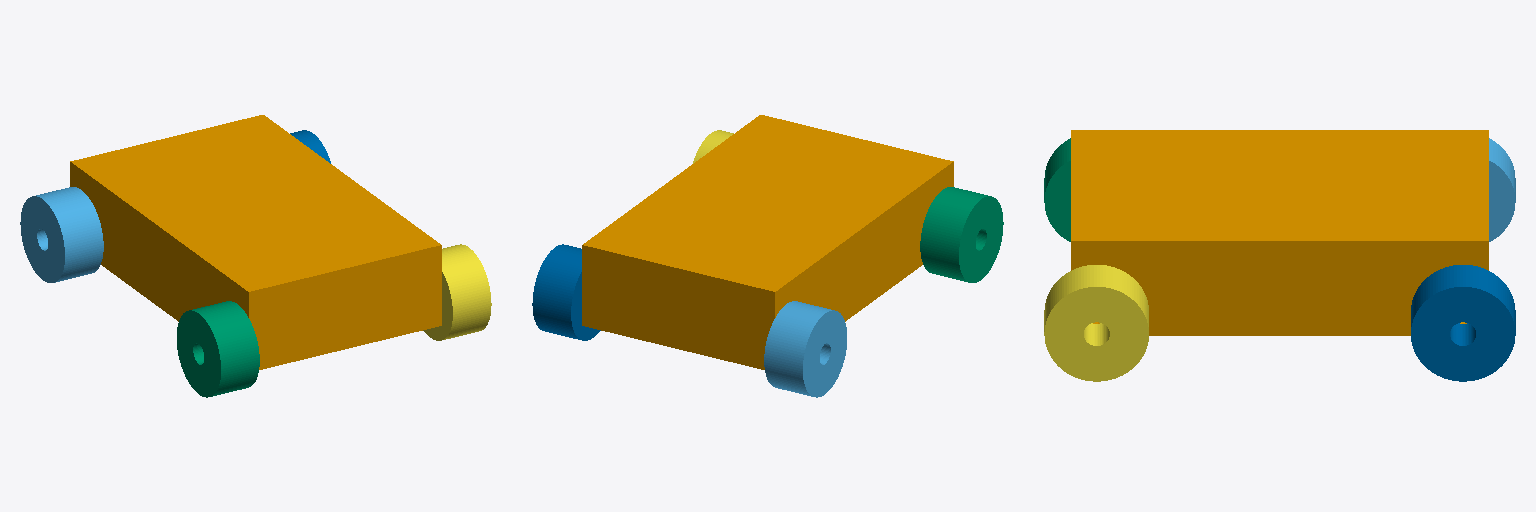
robot.urdf — modelo_carrinho:
<?xml version='1.0' encoding='utf-8'?>
<robot name="modelo_carrinho">
    <link name="base_link">
        <inertial>
            <origin xyz="0.025 0.04 0.010125806212033366" rpy="0.0 0.0 0.0" />
            <mass value="0.6125865610433244" />
            <inertia ixx="0.0003365420054452638" iyy="0.00014813641854496197" izz="0.0004436499873350197" ixy="1.0842021724855044e-19" iyz="0.0" ixz="2.710505431213761e-20" />
        </inertial>
        <visual name="base_link_visual">
            <origin xyz="0.0 0.0 0.0" rpy="0.0 0.0 0.0" />
            <geometry>
                <mesh filename="meshes/base_link.stl" scale="0.001 0.001 0.001" />
            </geometry>
        </visual>
        <collision name="base_link_collision">
            <origin xyz="0.0 0.0 0.0" rpy="0.0 0.0 0.0" />
            <geometry>
                <mesh filename="meshes/base_link.stl" scale="0.001 0.001 0.001" />
            </geometry>
        </collision>
    </link>
    <link name="roda_frent_esq">
        <inertial>
            <origin xyz="-1.7430501486614958e-14 0.0 -0.005" rpy="0.0 -0.0 0.0" />
            <mass value="0.023120158435012316" />
            <inertia ixx="8.067971958549617e-07" iyy="8.067971952329492e-07" izz="1.2282584171710261e-06" ixy="-1.0164395367051604e-20" iyz="0.0" ixz="-3.1763735522036263e-22" />
        </inertial>
        <visual name="roda_frent_esq_visual">
            <origin xyz="-0.03 -0.13 -0.01" rpy="0.0 -0.0 0.0" />
            <geometry>
                <mesh filename="meshes/roda_frent_esq.stl" scale="0.001 0.001 0.001" />
            </geometry>
        </visual>
        <collision name="roda_frent_esq_collision">
            <origin xyz="-0.03 -0.13 -0.01" rpy="0.0 -0.0 0.0" />
            <geometry>
                <mesh filename="meshes/roda_frent_esq.stl" scale="0.001 0.001 0.001" />
            </geometry>
        </collision>
    </link>
    <link name="roda_traz_esq">
        <inertial>
            <origin xyz="-1.7430501486614958e-14 -1.7763568394002505e-17 -0.005" rpy="0.0 -0.0 0.0" />
            <mass value="0.023120158435012316" />
            <inertia ixx="8.067971958550507e-07" iyy="8.067971952329492e-07" izz="1.2282584171711167e-06" ixy="-2.0434669852509996e-20" iyz="-5.293955920339377e-22" ixz="-3.1763735522036263e-22" />
        </inertial>
        <visual name="roda_traz_esq_visual">
            <origin xyz="-0.03 -0.1 -0.01" rpy="0.0 -0.0 0.0" />
            <geometry>
                <mesh filename="meshes/roda_traz_esq.stl" scale="0.001 0.001 0.001" />
            </geometry>
        </visual>
        <collision name="roda_traz_esq_collision">
            <origin xyz="-0.03 -0.1 -0.01" rpy="0.0 -0.0 0.0" />
            <geometry>
                <mesh filename="meshes/roda_traz_esq.stl" scale="0.001 0.001 0.001" />
            </geometry>
        </collision>
    </link>
    <link name="roda_traz_dir">
        <inertial>
            <origin xyz="-1.7426060594516458e-14 0.0 -0.005" rpy="0.0 -0.0 0.0" />
            <mass value="0.023120158435012316" />
            <inertia ixx="8.067971958549482e-07" iyy="8.06797195232955e-07" izz="1.2282584171710754e-06" ixy="7.72917564369549e-21" iyz="8.470329472543003e-22" ixz="-8.470329472543003e-22" />
        </inertial>
        <visual name="roda_traz_dir_visual">
            <origin xyz="-0.06 -0.13 -0.01" rpy="0.0 -0.0 0.0" />
            <geometry>
                <mesh filename="meshes/roda_traz_dir.stl" scale="0.001 0.001 0.001" />
            </geometry>
        </visual>
        <collision name="roda_traz_dir_collision">
            <origin xyz="-0.06 -0.13 -0.01" rpy="0.0 -0.0 0.0" />
            <geometry>
                <mesh filename="meshes/roda_traz_dir.stl" scale="0.001 0.001 0.001" />
            </geometry>
        </collision>
    </link>
    <link name="roda_frent_dir">
        <inertial>
            <origin xyz="-1.7426060594516458e-14 -1.7763568394002505e-17 -0.005" rpy="0.0 -0.0 0.0" />
            <mass value="0.023120158435012316" />
            <inertia ixx="8.067971958550431e-07" iyy="8.06797195232955e-07" izz="1.2282584171711345e-06" ixy="-1.8634724839594607e-20" iyz="0.0" ixz="-8.470329472543003e-22" />
        </inertial>
        <visual name="roda_frent_dir_visual">
            <origin xyz="-0.06 -0.1 -0.01" rpy="0.0 -0.0 0.0" />
            <geometry>
                <mesh filename="meshes/roda_frent_dir.stl" scale="0.001 0.001 0.001" />
            </geometry>
        </visual>
        <collision name="roda_frent_dir_collision">
            <origin xyz="-0.06 -0.1 -0.01" rpy="0.0 -0.0 0.0" />
            <geometry>
                <mesh filename="meshes/roda_frent_dir.stl" scale="0.001 0.001 0.001" />
            </geometry>
        </collision>
    </link>
    <joint name="base_link_junta_frent_dir" type="continuous">
        <origin xyz="0.05 0.075 0.005" rpy="-0.0 -1.5707963267948966 0" />
        <parent link="base_link" />
        <child link="roda_frent_dir" />
        <axis xyz="0.0 0.0 1.0" />
    </joint>
    <joint name="base_link_junta_traz_dir" type="continuous">
        <origin xyz="0.05 0.005 0.005" rpy="-0.0 -1.5707963267948966 0" />
        <parent link="base_link" />
        <child link="roda_traz_dir" />
        <axis xyz="0.0 0.0 1.0" />
    </joint>
    <joint name="base_link_junta_traz_esq" type="continuous">
        <origin xyz="0.0 0.005 0.005" rpy="-3.141592653589793 -1.5707963267948966 0" />
        <parent link="base_link" />
        <child link="roda_traz_esq" />
        <axis xyz="0.0 0.0 1.0" />
    </joint>
    <joint name="base_link_junta_frent_esq" type="continuous">
        <origin xyz="0.0 0.075 0.005" rpy="-3.141592653589793 -1.5707963267948966 0" />
        <parent link="base_link" />
        <child link="roda_frent_esq" />
        <axis xyz="0.0 0.0 1.0" />
    </joint>
</robot>

--- What the picture shows (computed from the rendered views, not written in the file) ---
Views: 3 orthographic renders of the robot side by side, from view 1: azimuth 30°, elevation 25°; view 2: azimuth 150°, elevation 25°; view 3: azimuth 270°, elevation 25°.
Robot: modelo_carrinho — 5 links, 4 joints (4 continuous); root link base_link; default pose: every joint at zero.
Visible links, largest first — view 1: base_link, roda_traz_esq, roda_frent_esq, roda_traz_dir; view 2: base_link, roda_frent_esq, roda_traz_esq, roda_frent_dir; view 3: base_link, roda_traz_dir, roda_frent_dir, roda_frent_esq, roda_traz_esq.
Boxes of the visible links, x1=… form: base_link: x1=70, y1=115, x2=441, y2=369; roda_traz_esq: x1=177, y1=301, x2=259, y2=397; roda_frent_esq: x1=20, y1=187, x2=103, y2=282; roda_traz_dir: x1=423, y1=244, x2=491, y2=340; base_link: x1=582, y1=115, x2=953, y2=369; roda_frent_esq: x1=764, y1=301, x2=846, y2=397; roda_traz_esq: x1=920, y1=187, x2=1003, y2=282; roda_frent_dir: x1=532, y1=244, x2=600, y2=340; base_link: x1=1071, y1=130, x2=1488, y2=335; roda_traz_dir: x1=1044, y1=265, x2=1148, y2=381; roda_frent_dir: x1=1411, y1=265, x2=1515, y2=381; roda_frent_esq: x1=1489, y1=138, x2=1515, y2=241; roda_traz_esq: x1=1044, y1=138, x2=1070, y2=241.
Bounding box of the posed robot: 0.07 × 0.09 × 0.025 m (x, y, z).
Meshes: 5 distinct files referenced, 5 mesh visuals loaded (5 binary STL).
